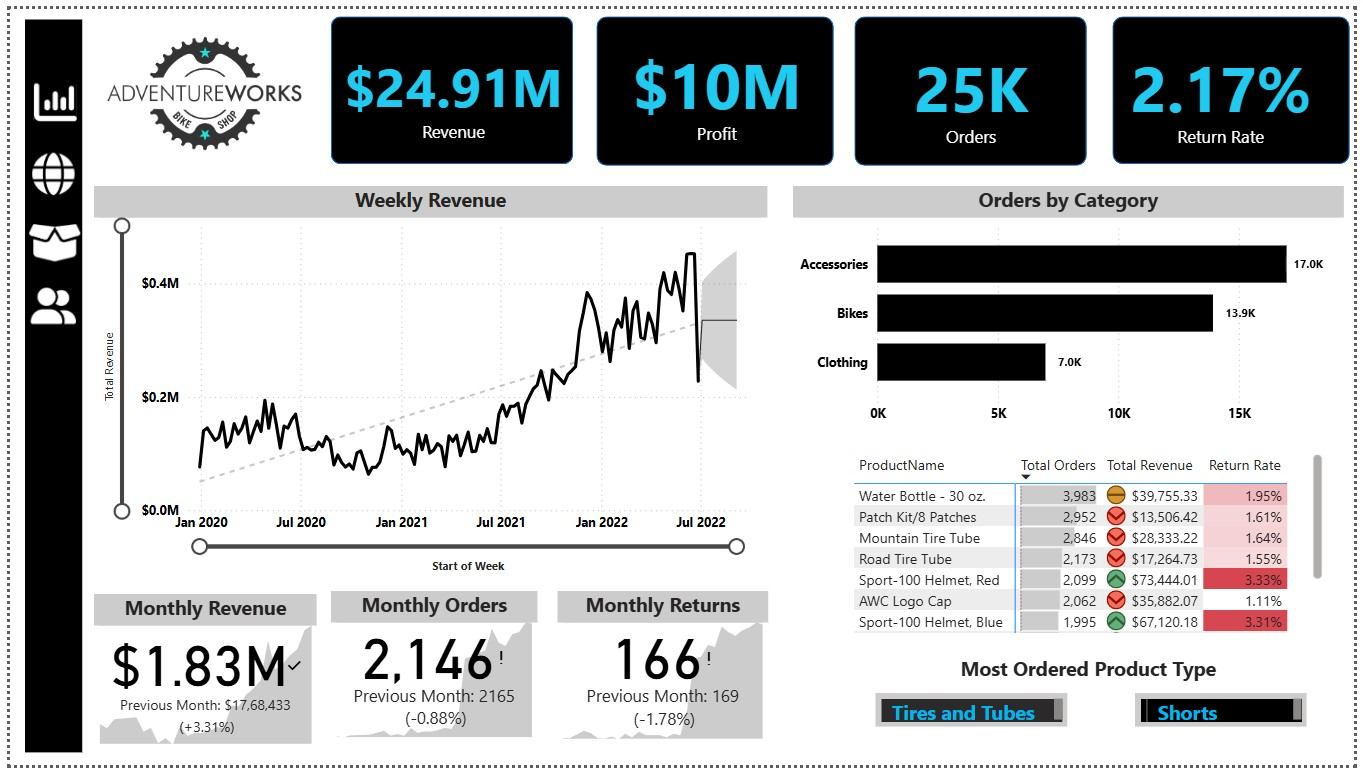

What the dashboard file says about the page in this screenshot:
{"tool":"powerbi","page":{"name":"Executive Dashboard","canvas":[1280,720],"ordinal":0},"visuals":[{"type":"shape","box":[1049.5,7.2,225.8,140.5],"z":0,"group":"g1"},{"type":"card","fields":{"Values":["Sum(Sales Data.Revenue)"]},"box":[301.4,7.3,241.4,150],"z":0,"group":"g2"},{"type":"image","box":[67,10.3,237.1,141.7],"z":0},{"type":"card","fields":{"Values":["Measure Table.Total Profit"]},"box":[561.6,5.7,222.9,147.1],"z":1000,"group":"g2"},{"type":"shape","box":[804.8,7.1,221.1,142.1],"z":1000,"group":"g1"},{"type":"shape","title":"Left Nav Background","box":[13.6,10.6,54.5,698],"z":1000},{"type":"actionButton","box":[18.6,64.3,63.5,49.1],"z":1000,"group":"g3"},{"type":"group","id":"g1","title":"KPI Background","box":[305.8,7,969.5,142.2],"z":2000},{"type":"shape","box":[558.7,7,225.8,142.1],"z":2000,"group":"g1"},{"type":"card","fields":{"Values":["Measure Table.Total Orders"]},"box":[786.5,7.5,255.7,150],"z":2000,"group":"g2"},{"type":"actionButton","box":[14.3,195,85.7,56.7],"z":2000,"group":"g3"},{"type":"group","id":"g2","title":"KPI VALUES","box":[301.4,5.7,969.4,151.8],"z":3000},{"type":"shape","box":[305.8,7,230.5,140.5],"z":3000,"group":"g1"},{"type":"card","fields":{"Values":["Measure Table.Return Rate"]},"box":[1033.6,7.5,237.1,150],"z":3000,"group":"g2"},{"type":"actionButton","box":[15.4,257,53.4,51.2],"z":3000,"group":"g3"},{"type":"actionButton","box":[17.7,133.3,53.4,48.4],"z":4000,"group":"g3"},{"type":"lineChart","title":"Weekly Revenue","fields":{"Y":["Measure Table.Total Revenue"],"Category":["Calendar Lookup.Date Hierarchy.Start of Week"]},"box":[80.3,168.5,641.1,370.1],"z":4000},{"type":"kpi","title":"Monthly Revenue","fields":{"TrendLine":["Calendar Lookup.Date Hierarchy.start of month"],"Goal":["Measure Table.Previous Month Revenue"],"Indicator":["Measure Table.Total Revenue"]},"box":[79.8,556.6,212.1,147.9],"z":5000},{"type":"kpi","title":"Monthly Orders","fields":{"Indicator":["Measure Table.Total Orders"],"TrendLine":["Calendar Lookup.Date Hierarchy.start of month"],"Goal":["Measure Table.Previous Month Orders"]},"box":[305.6,554.7,196.6,144],"z":6000},{"type":"kpi","title":"Monthly Returns","fields":{"TrendLine":["Calendar Lookup.Date Hierarchy.start of month"],"Indicator":["Measure Table.Total Returns"],"Goal":["Measure Table.Previous Month Returns"]},"box":[521.6,554.7,200.5,146],"z":7000},{"type":"clusteredBarChart","title":"Orders by Category","fields":{"Category":["Product Categories Lookup.CategoryName"],"Y":["Measure Table.Total Orders"]},"box":[745,168.5,524.5,234.7],"z":8000},{"type":"pivotTable","fields":{"Rows":["Product Lookup.ProductName"],"Values":["Measure Table.Total Orders","Measure Table.Total Revenue","Measure Table.Return Rate"]},"box":[798.9,418.8,456.2,180.4],"z":9000},{"type":"multiRowCard","fields":{"Values":["Product Subcategories Lookup.SubcategoryName"]},"box":[824.7,652,183,32.2],"z":10000},{"type":"textbox","box":[881.4,609.5,291.2,41.2],"z":11000},{"type":"multiRowCard","fields":{"Values":["Product Subcategories Lookup.SubcategoryName"]},"box":[1072.1,652,163.7,32.2],"z":12000},{"type":"group","id":"g3","title":"Buttons","box":[14.3,64.3,85.7,244.3],"z":13000}]}

Visuals, with their boxes in screenshot pixels (x1, y1, x2, y2), scaled from the page's 1280x720 canvas onto the 1363x775 screenshot:
shape: l=1118, t=8, r=1358, b=159
card - Sum(Sales Data.Revenue): l=321, t=8, r=578, b=169
image: l=71, t=11, r=324, b=164
card - Measure Table.Total Profit: l=598, t=6, r=835, b=164
shape: l=857, t=8, r=1092, b=161
"Left Nav Background" shape: l=14, t=11, r=73, b=763
actionButton: l=20, t=69, r=87, b=122
"KPI Background" group: l=326, t=8, r=1358, b=161
shape: l=595, t=8, r=835, b=160
card - Measure Table.Total Orders: l=837, t=8, r=1110, b=170
actionButton: l=15, t=210, r=106, b=271
"KPI VALUES" group: l=321, t=6, r=1353, b=170
shape: l=326, t=8, r=571, b=159
card - Measure Table.Return Rate: l=1101, t=8, r=1353, b=170
actionButton: l=16, t=277, r=73, b=332
actionButton: l=19, t=143, r=76, b=196
"Weekly Revenue" lineChart: l=86, t=181, r=768, b=580
"Monthly Revenue" kpi: l=85, t=599, r=311, b=758
"Monthly Orders" kpi: l=325, t=597, r=535, b=752
"Monthly Returns" kpi: l=555, t=597, r=769, b=754
"Orders by Category" clusteredBarChart: l=793, t=181, r=1352, b=434
pivotTable - Product Lookup.ProductName x Measure Table.Total Orders: l=851, t=451, r=1336, b=645
multiRowCard - Product Subcategories Lookup.SubcategoryName: l=878, t=702, r=1073, b=736
textbox: l=939, t=656, r=1249, b=700
multiRowCard - Product Subcategories Lookup.SubcategoryName: l=1142, t=702, r=1316, b=736
"Buttons" group: l=15, t=69, r=106, b=332
